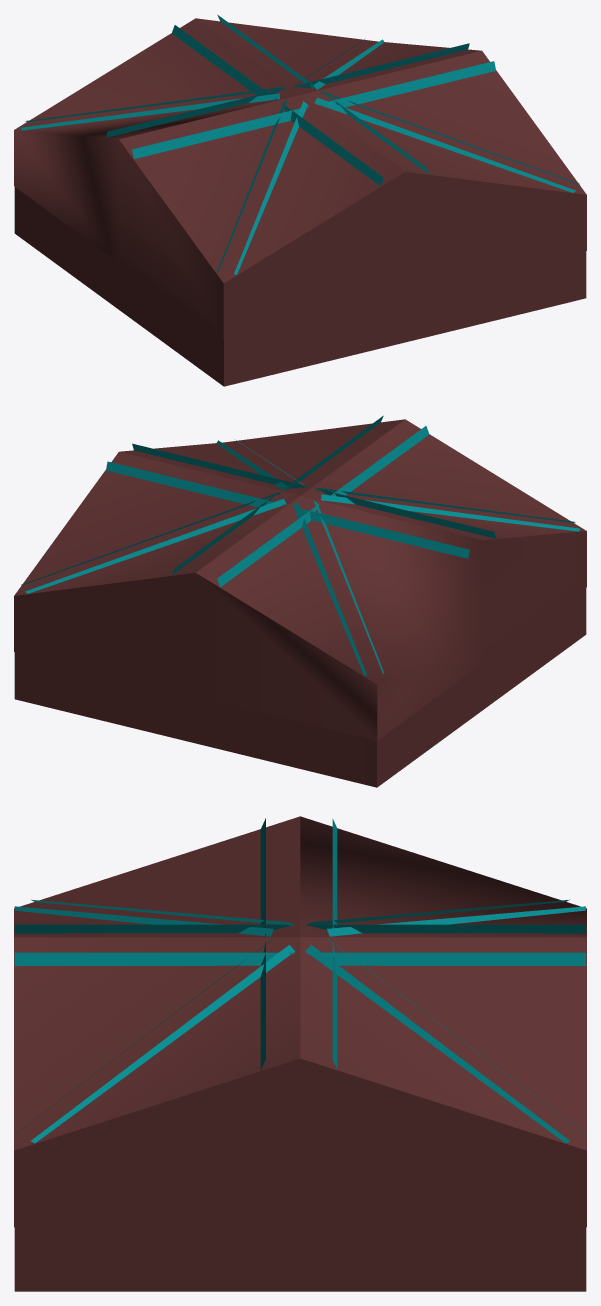
File: corridorceiling_002.fbx
The picture shows the model from 3 angles, top to bottom: view 1: azimuth 30°, elevation 25°; view 2: azimuth 150°, elevation 25°; view 3: azimuth 270°, elevation 25°; orthographic projection. The views are drawn at different scales.
Parts seen in each view (by area): view 1: corridorceiling_002; view 2: corridorceiling_002; view 3: corridorceiling_002.
Part boxes in pixels (x1=…): corridorceiling_002: x1=14, y1=14, x2=586, y2=386; corridorceiling_002: x1=14, y1=415, x2=586, y2=787; corridorceiling_002: x1=14, y1=816, x2=586, y2=1291.
Size of the model in its own units: 401 by 183 by 401.
